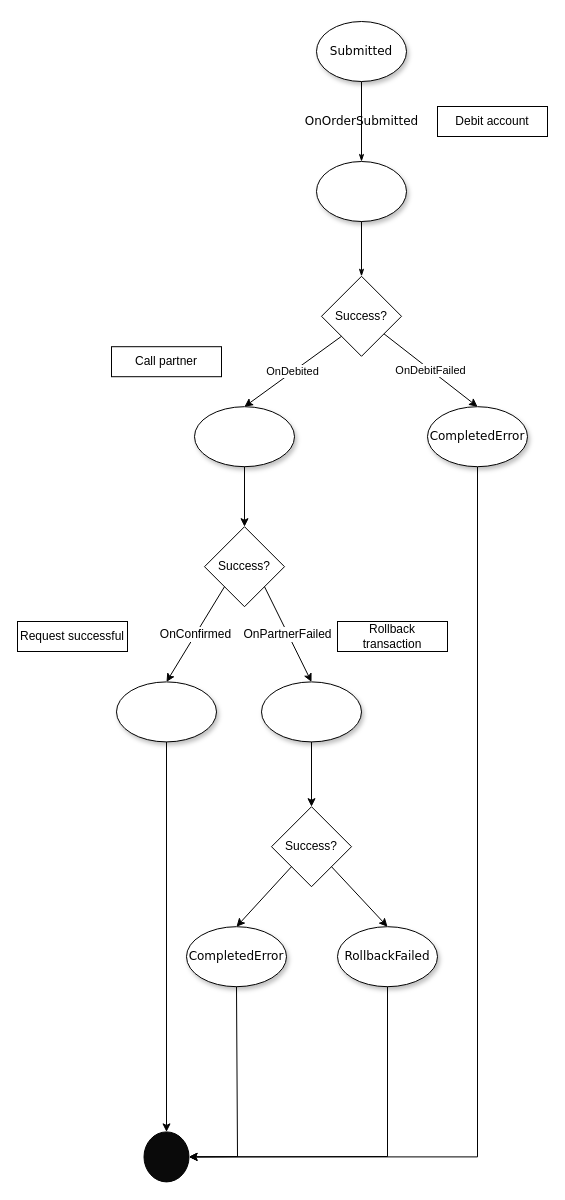
The diagram is 565 pixels wide and 1200 high, and some of its shapes have lost their labels. The shapes that lost their labels are listed below. From the top down, each one's centre as x and y in pixels, then its label:
(x=362, y=192): PendingDebit
(x=245, y=438): AwaitingPartner
(x=167, y=713): Completed
(x=312, y=713): RollingBack
